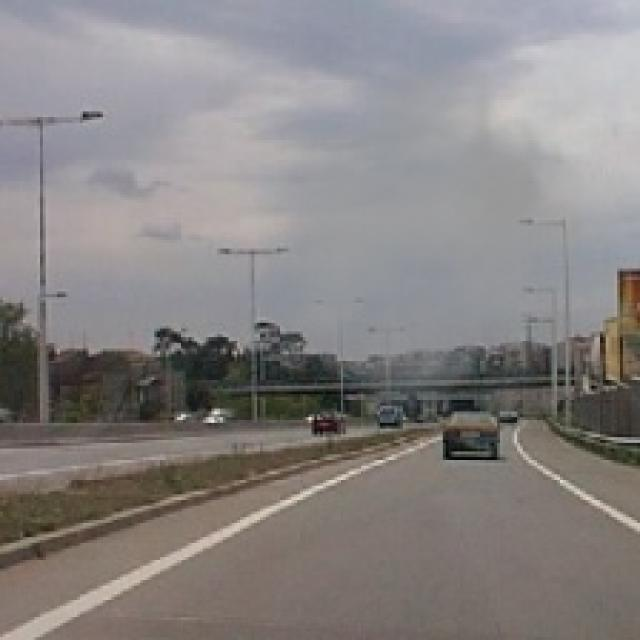smoke: (266, 37, 626, 432)
